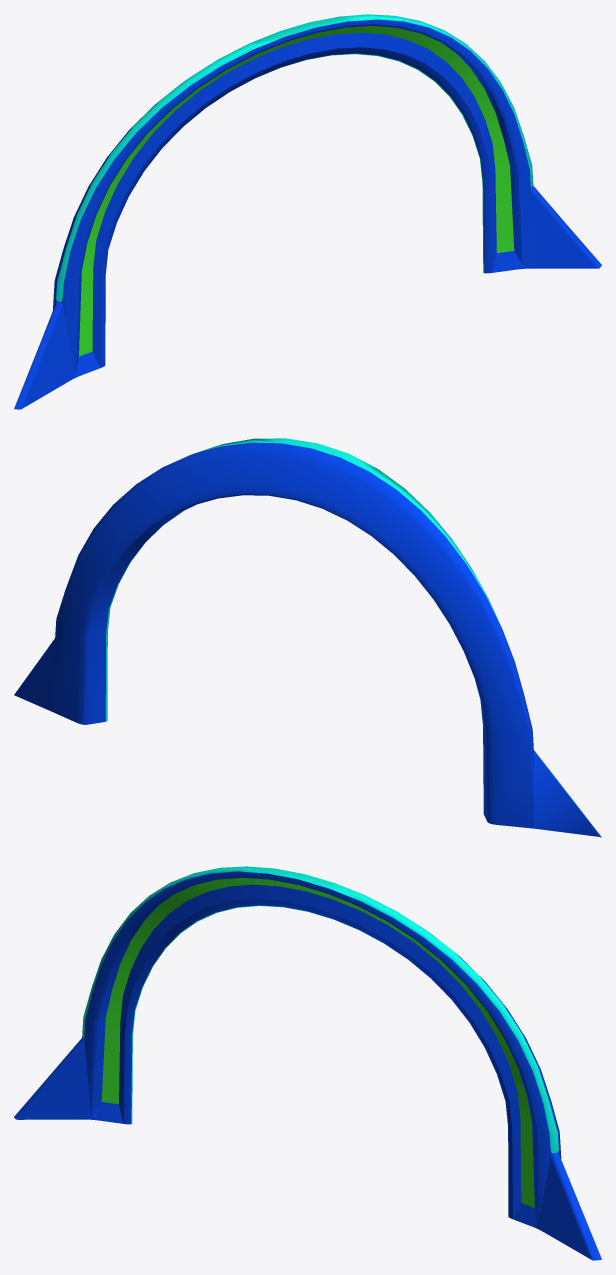
Rendered from Top Teleporter.FBX.
3 views of the same model, one above another, from view 1: azimuth 30°, elevation 25°; view 2: azimuth 150°, elevation 25°; view 3: azimuth 330°, elevation 25° (orthographic).
Parts seen in each view (by area): view 1: Tube087; view 2: Tube087; view 3: Tube087.
Part boxes in pixels (x1,y1,x2,y2): Tube087: (14,14,601,409); Tube087: (14,438,601,837); Tube087: (14,866,601,1260).
Bounding box in the file's own units: 15.89 × 8.18 × 1.51.
